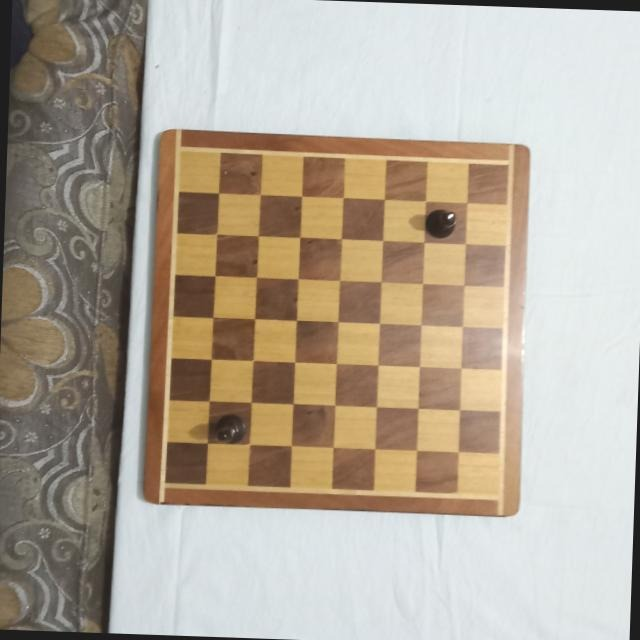black-bishop: (422, 204, 457, 239), (212, 414, 247, 446)
